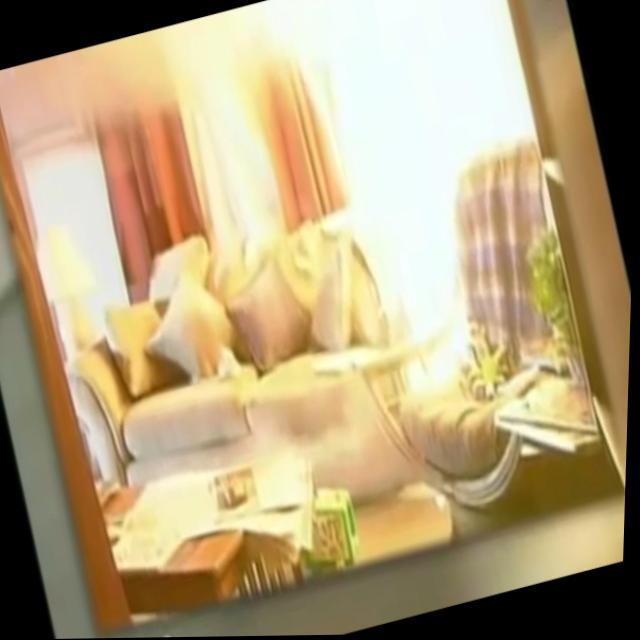fire: (309, 0, 521, 392)
